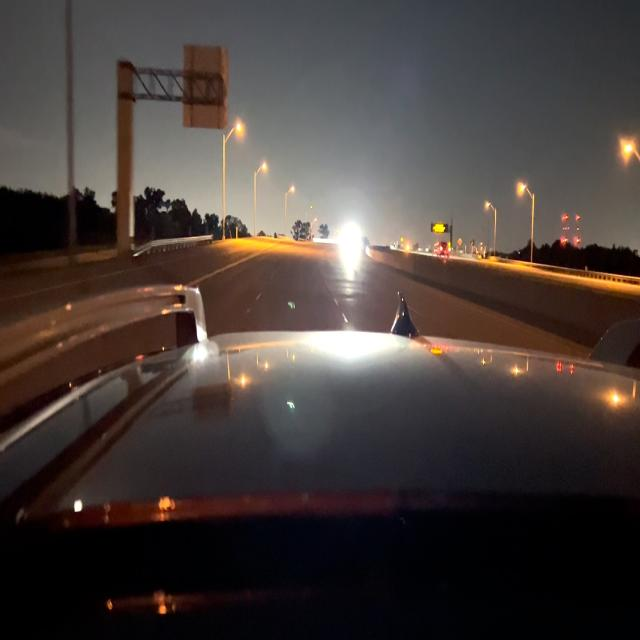back-of-sign: (184, 43, 229, 128)
